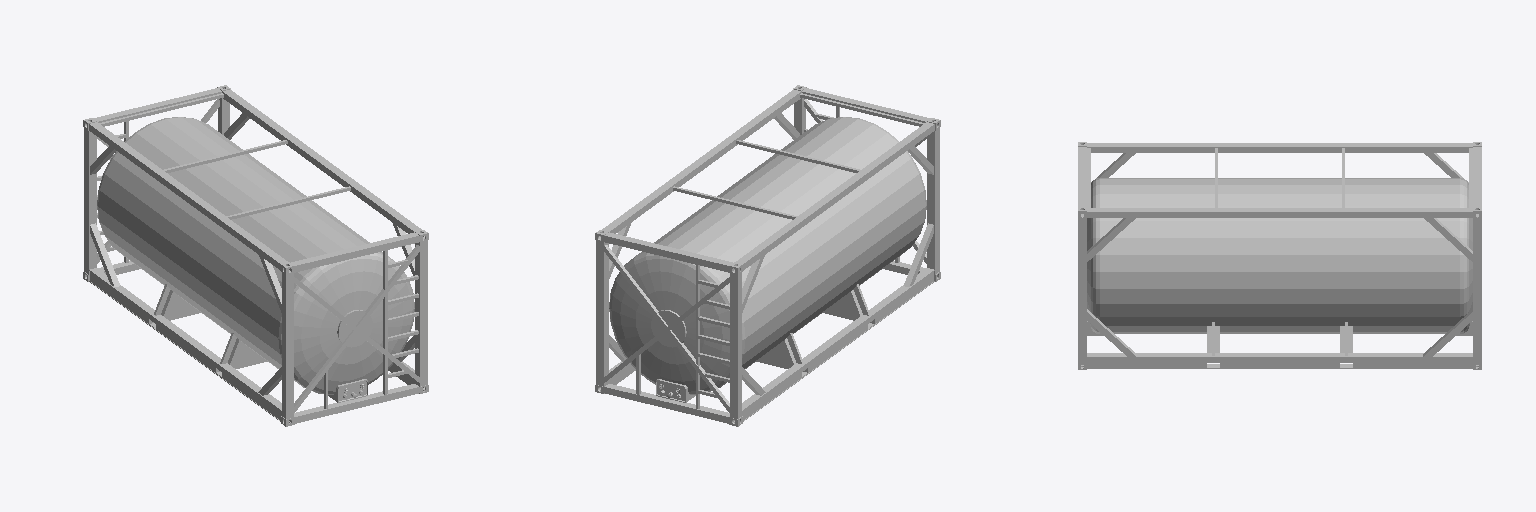
The model's file is tank.obj.
3 views of the same model, side by side, from view 1: azimuth 30°, elevation 25°; view 2: azimuth 150°, elevation 25°; view 3: azimuth 270°, elevation 25° (orthographic).
Visible parts, largest first — view 1: Object.1; view 2: Object.1; view 3: Object.1.
Boxes of the visible parts, box(x1,y1,x2,y2) form: Object.1: box(83, 85, 428, 426); Object.1: box(595, 85, 940, 426); Object.1: box(1078, 142, 1481, 369).
Size of the model in its own units: 24.78 by 26.41 by 60.96.